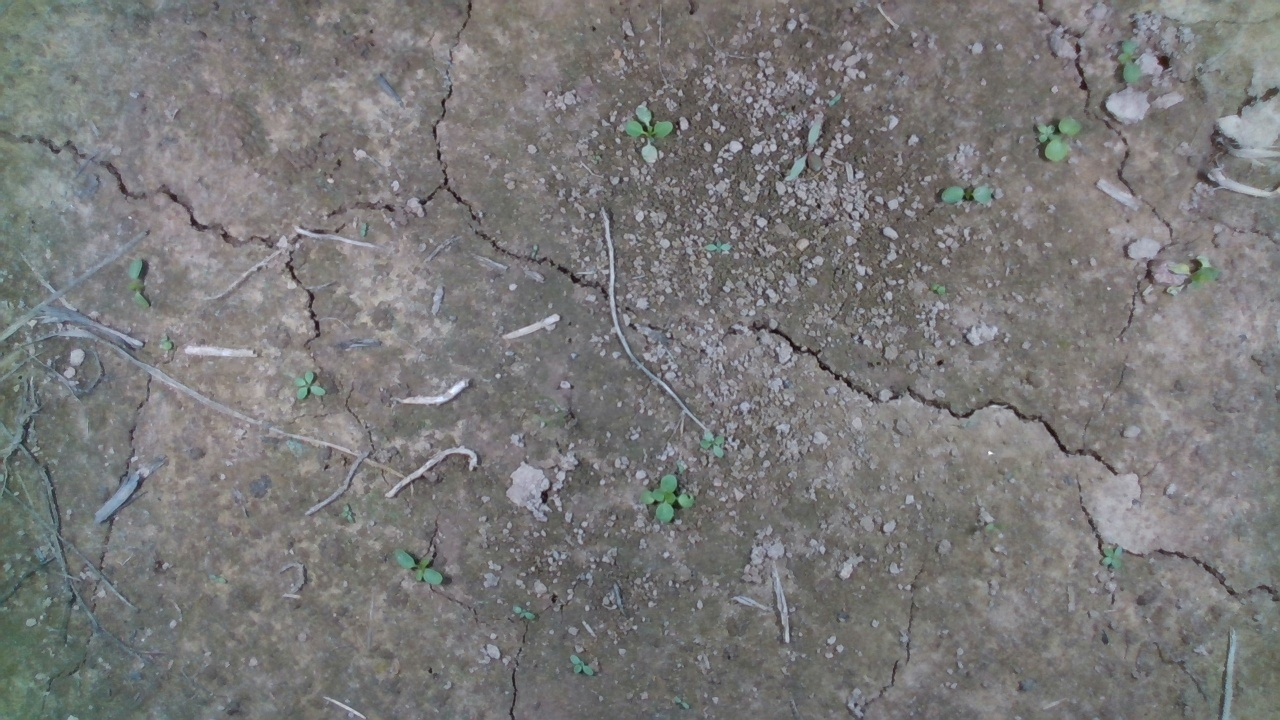weed: (622, 102, 686, 145), (389, 546, 446, 589), (642, 472, 686, 522), (1032, 114, 1070, 164), (940, 177, 998, 206), (1114, 36, 1144, 84), (561, 650, 601, 679), (290, 370, 325, 401), (696, 430, 721, 456)
